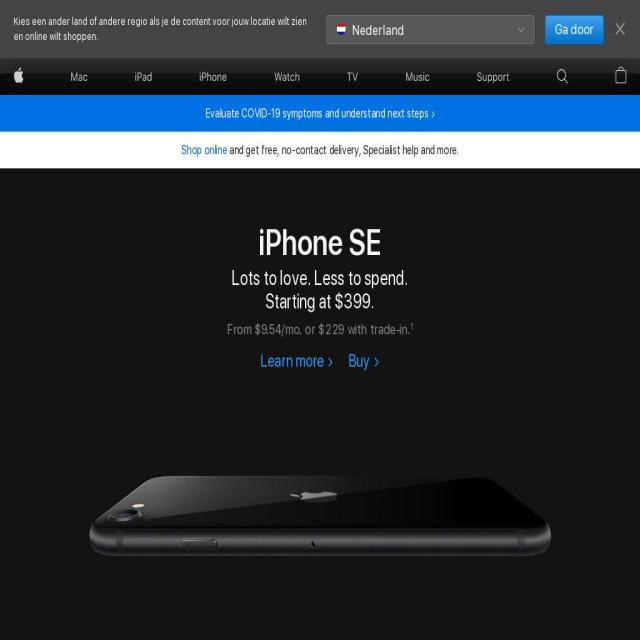button: (326, 14, 535, 44), (205, 105, 435, 122), (545, 14, 604, 44), (470, 58, 516, 95), (193, 58, 234, 95), (268, 58, 306, 95), (400, 58, 436, 95), (129, 58, 159, 95), (65, 58, 94, 95), (341, 58, 365, 95), (608, 58, 632, 95), (8, 58, 30, 95)
heading: (0, 222, 640, 262), (210, 267, 430, 313)
image: (550, 58, 574, 95), (336, 22, 346, 36)
link: (260, 349, 334, 371), (348, 349, 379, 371), (182, 143, 228, 157), (410, 321, 414, 332)
text: (71, 264, 569, 640), (14, 14, 326, 44), (336, 15, 508, 45), (227, 143, 459, 157), (344, 320, 410, 338), (255, 318, 302, 340), (318, 318, 344, 340), (227, 320, 255, 338), (302, 320, 318, 338)
